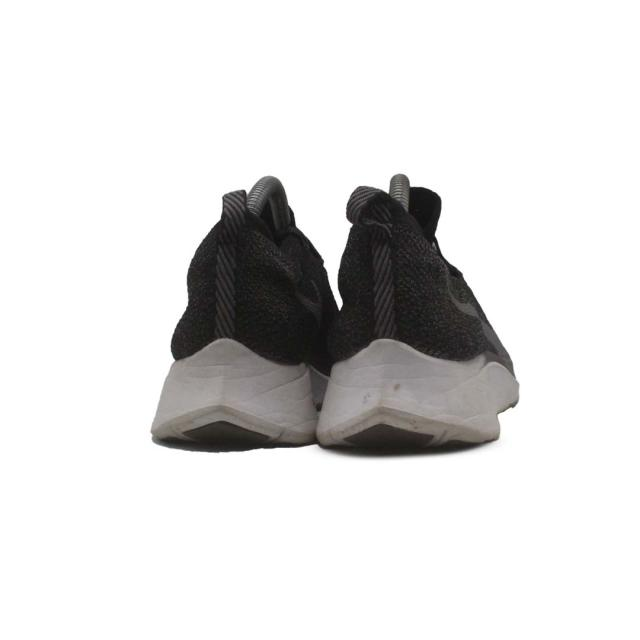heel: (171, 192, 319, 366), (338, 192, 485, 357)
midsole: (317, 339, 516, 444), (150, 340, 314, 439)
